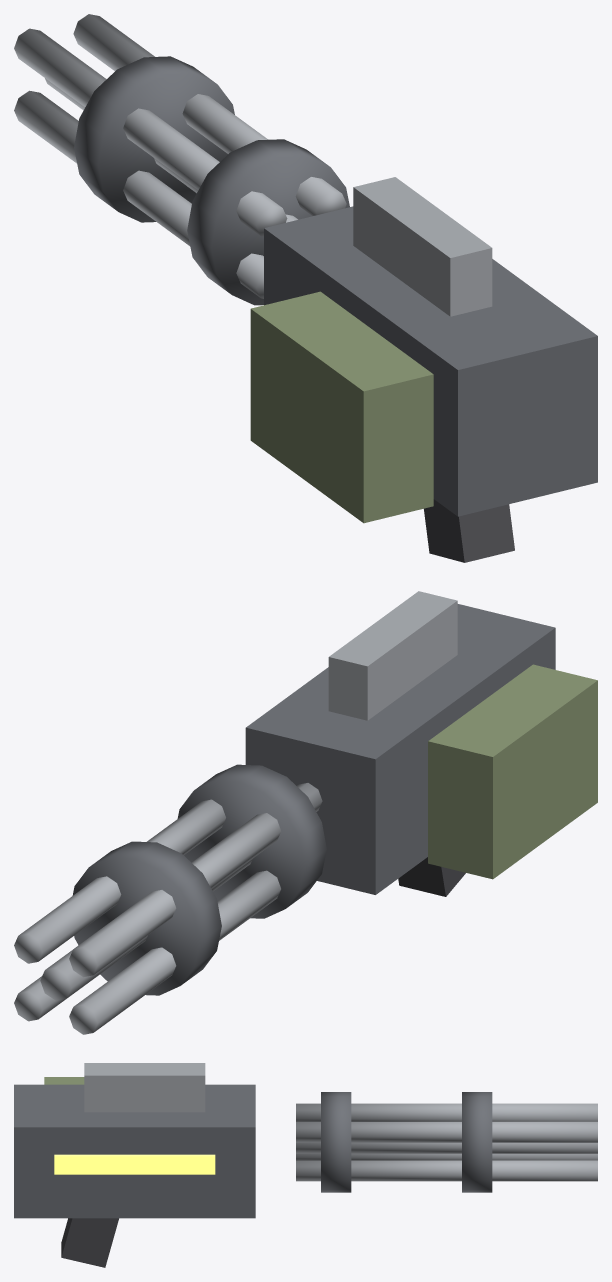
Rendered from chaingun_held.gltf.
The picture shows the model from 3 angles, top to bottom: view 1: azimuth 30°, elevation 25°; view 2: azimuth 150°, elevation 25°; view 3: azimuth 270°, elevation 25°; orthographic projection. The views are drawn at different scales.
Visible parts, largest first — view 1: chaingun_held; view 2: chaingun_held; view 3: chaingun_held.
Part boxes in pixels (bbox=[...]): chaingun_held: bbox=[14, 14, 597, 562]; chaingun_held: bbox=[14, 591, 597, 1034]; chaingun_held: bbox=[14, 1063, 597, 1267].
Bounding box in the file's own units: 0.154 × 0.2092 × 0.58.
